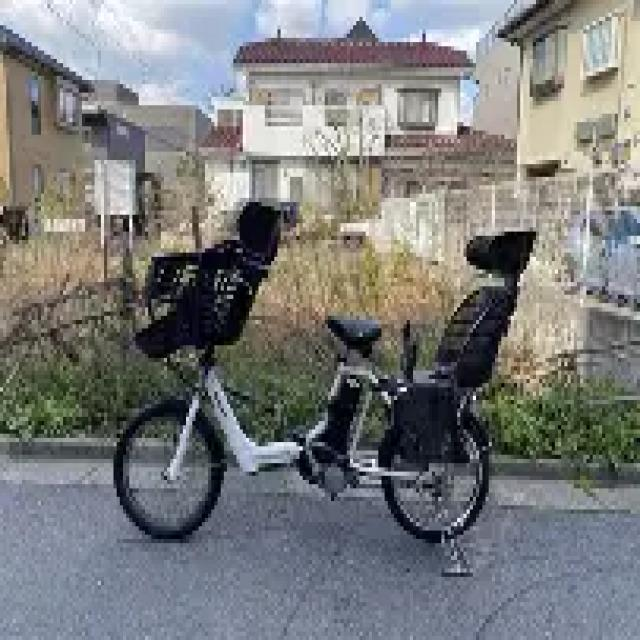battery: (325, 377, 365, 451)
childseat: (384, 227, 540, 462), (141, 198, 282, 351)
